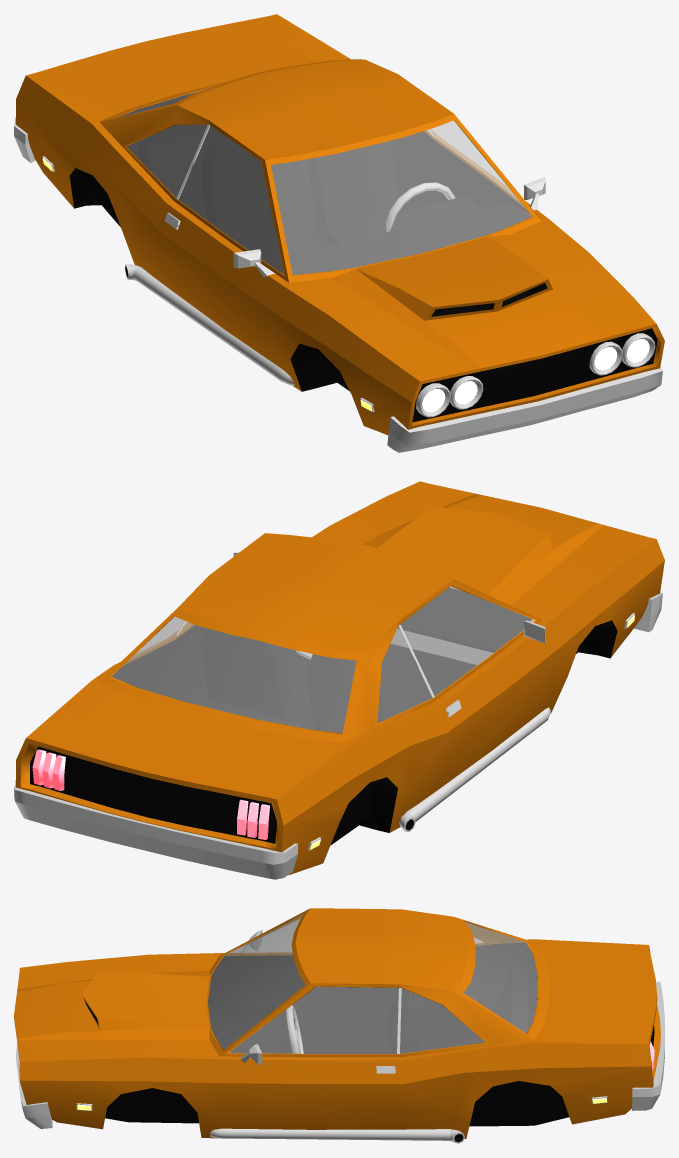
Rendered from muscle-car-transformed.glb.
The picture shows the model from 3 angles, top to bottom: view 1: azimuth 30°, elevation 25°; view 2: azimuth 150°, elevation 25°; view 3: azimuth 270°, elevation 25°; orthographic projection. The views are drawn at different scales.
Parts seen in each view (by area): view 1: Cube; view 2: Cube; view 3: Cube.
Part boxes in pixels (x1,y1,x2,y2): Cube: [14, 14, 664, 452]; Cube: [14, 481, 664, 879]; Cube: [14, 908, 664, 1143].
Bounding box in the file's own units: 2.02 × 1.12 × 4.5.
